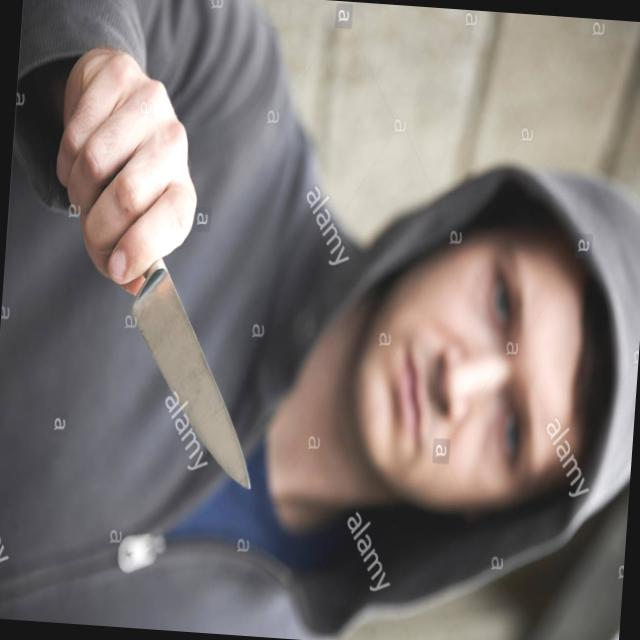knife: (38, 93, 286, 504)
